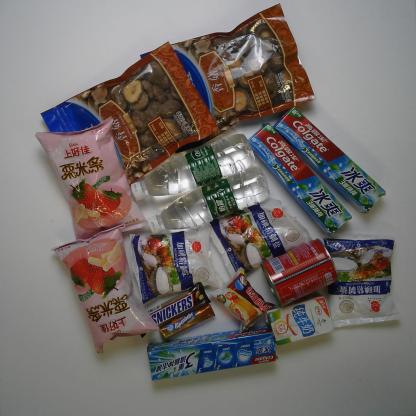Candy: (156, 302, 216, 340)
Canned Food: (258, 237, 340, 310)
Chocolate: (132, 281, 214, 340)
Dessert: (208, 268, 277, 334)
Dried Food: (40, 36, 222, 209), (138, 3, 319, 154)
Drink: (130, 131, 258, 204), (147, 164, 269, 237)
Milk: (264, 294, 337, 348)
Personal Hygiene: (270, 103, 387, 212), (244, 120, 352, 238), (145, 322, 278, 382)
Puffed Food: (48, 221, 162, 356), (34, 116, 149, 246)
Seasoner: (202, 196, 319, 280), (125, 223, 226, 308), (319, 236, 404, 332)
